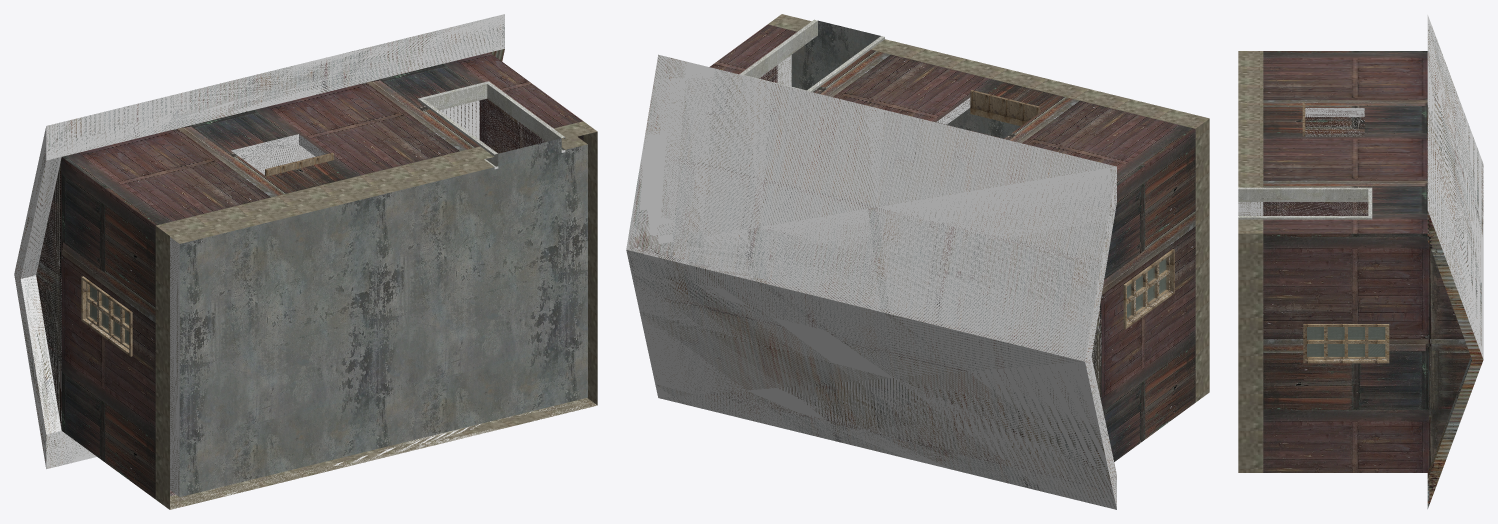
File: Shack1.dae
3 views of the same model, side by side, from view 1: azimuth 30°, elevation 25°; view 2: azimuth 150°, elevation 25°; view 3: azimuth 270°, elevation 25° (orthographic). The views are drawn at different scales.
Visible parts, largest first — view 1: group_0 (×10); view 2: group_0 (×7); view 3: group_0 (×9).
Boxes of the visible parts, <box> form: group_0 (×10): <box>14,14,597,509</box>; group_0 (×7): <box>626,14,1209,509</box>; group_0 (×9): <box>1238,15,1483,508</box>.
Size of the model in its own units: 267 by 141 by 191.
10 materials, 9 textured.
